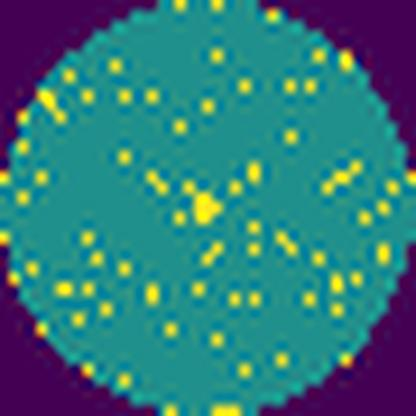Center: (185, 172, 228, 234)
